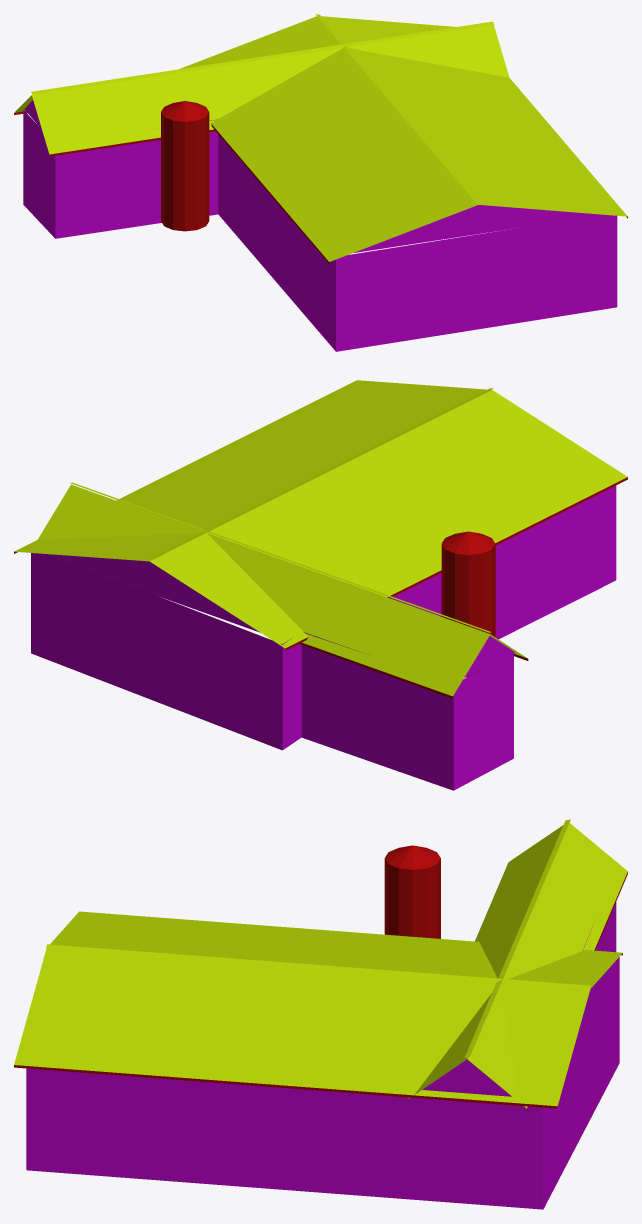
File: ferme_parpaing.glb
The picture shows the model from 3 angles, top to bottom: view 1: azimuth 30°, elevation 25°; view 2: azimuth 150°, elevation 25°; view 3: azimuth 270°, elevation 25°; orthographic projection. The views are drawn at different scales.
Visible parts, largest first — view 1: ferme_parpaing; view 2: ferme_parpaing; view 3: ferme_parpaing.
Part boxes in pixels (<box>): ferme_parpaing: <box>14,14,627,351</box>; ferme_parpaing: <box>14,380,627,790</box>; ferme_parpaing: <box>14,819,627,1209</box>.
Bounding box in the file's own units: 25.18 × 8.21 × 26.25.
